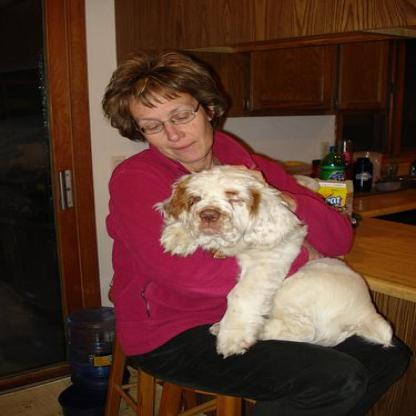clumber: (155, 163, 390, 354)
